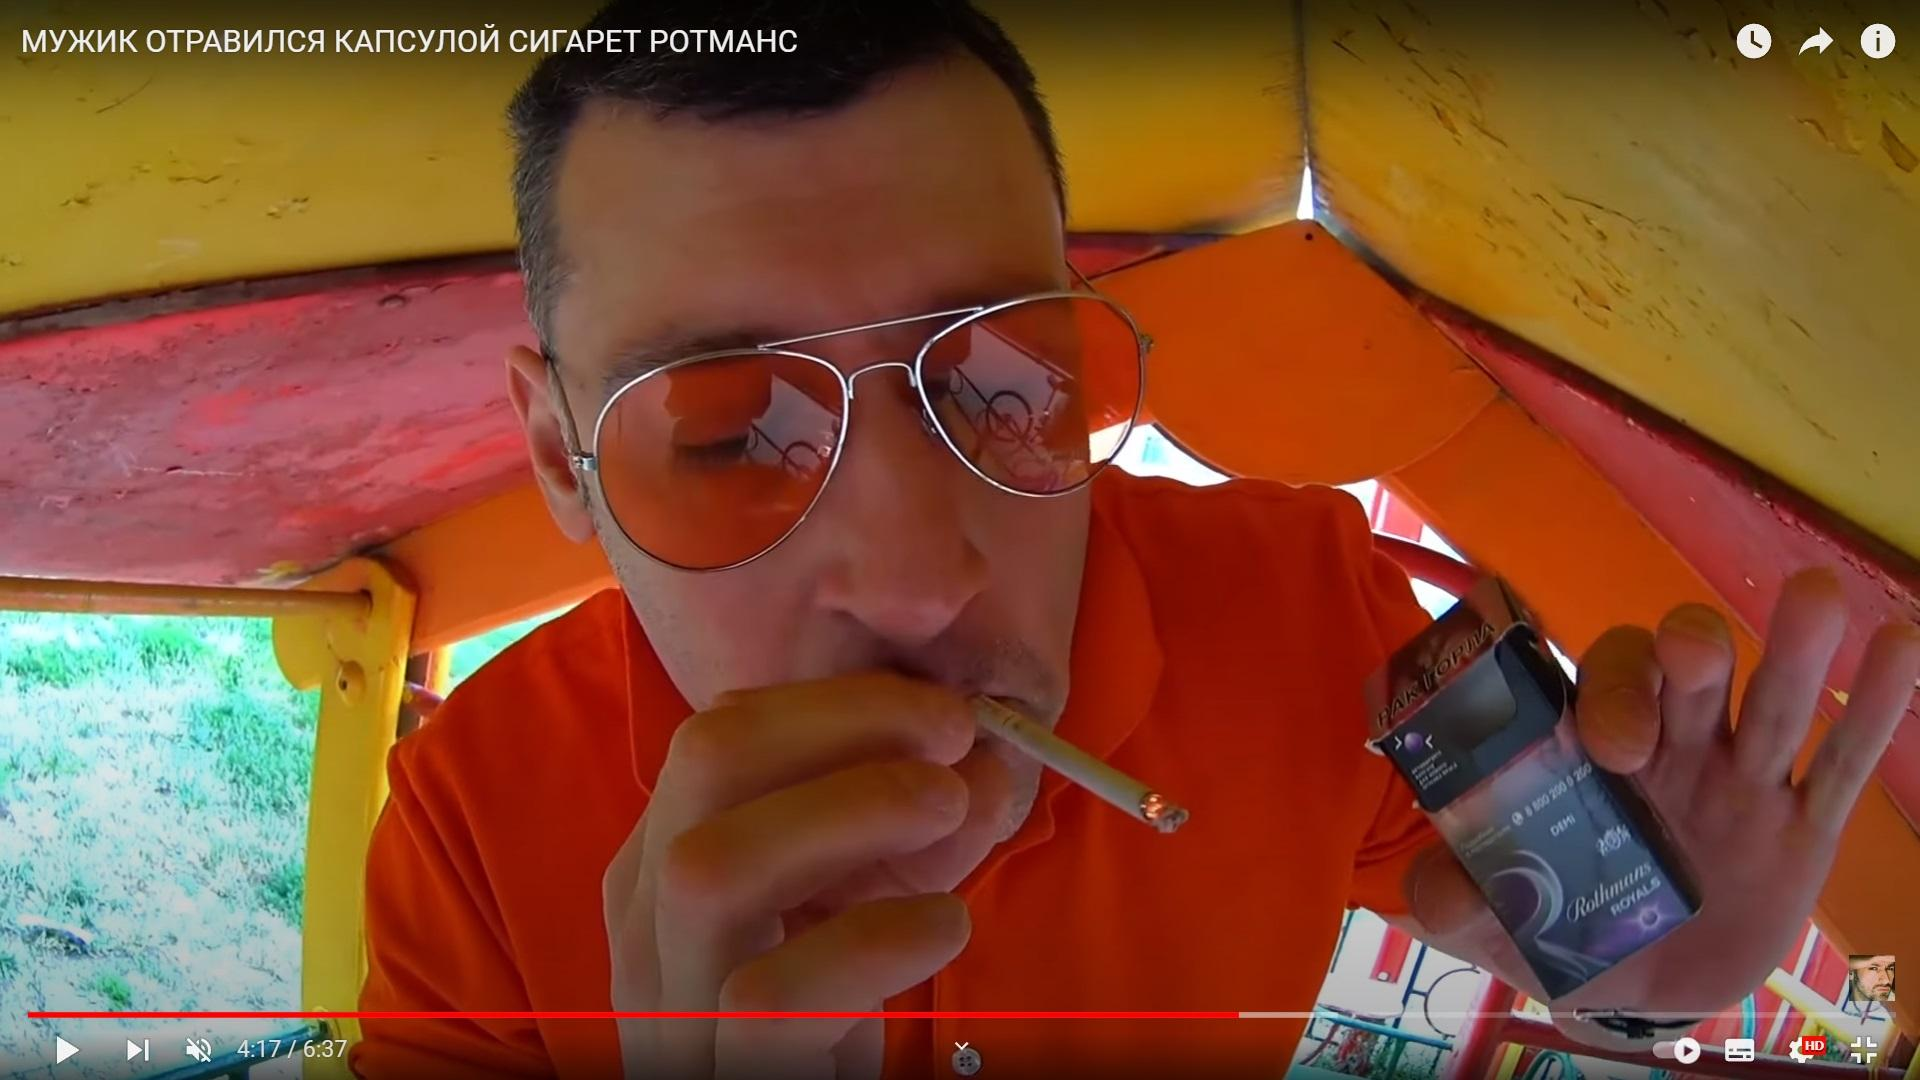cigarette: (965, 692, 1192, 833)
